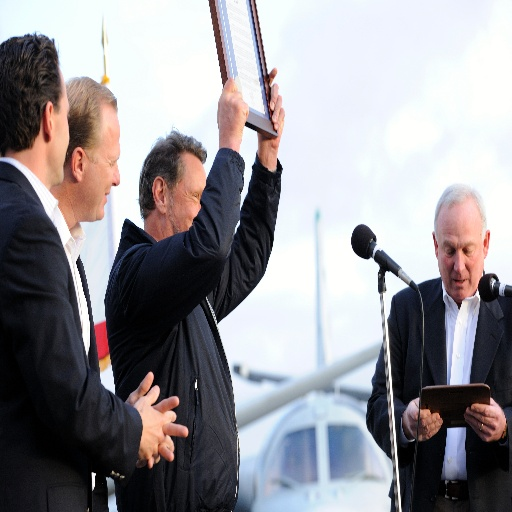hand: (123, 370, 187, 468), (215, 76, 248, 151), (257, 66, 284, 149), (464, 391, 504, 442), (404, 397, 443, 443)
